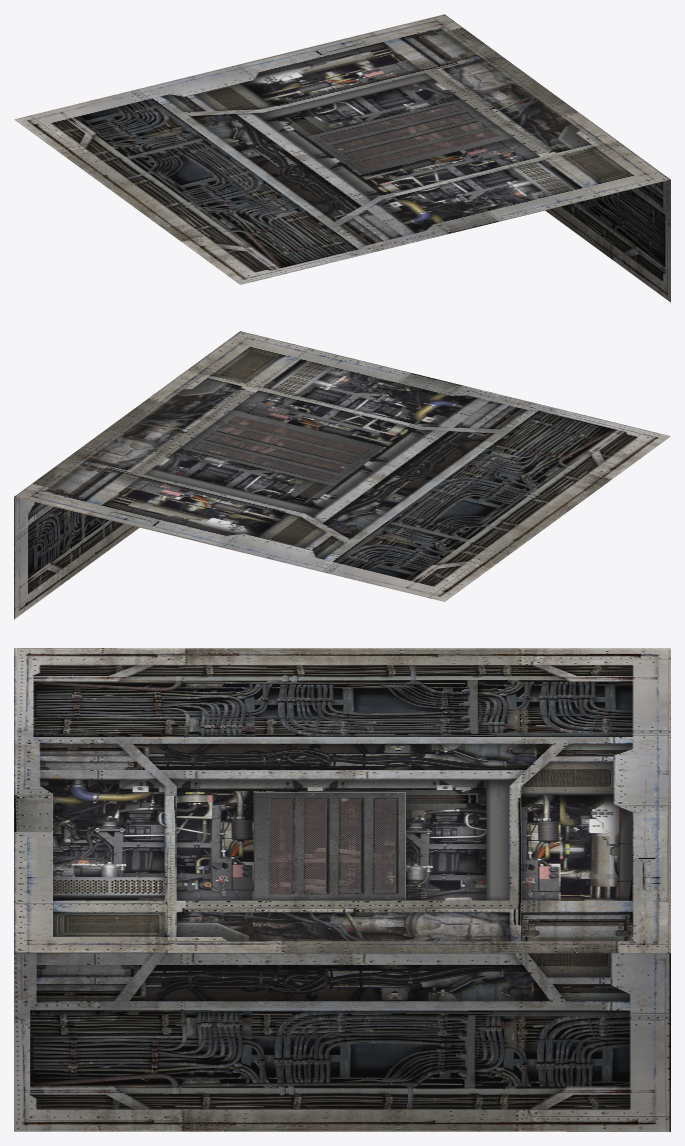
The model's file is ARC_CeilingHigh_Single_SectionOpen.FBX.
The picture shows the model from 3 angles, top to bottom: view 1: azimuth 30°, elevation 25°; view 2: azimuth 150°, elevation 25°; view 3: azimuth 270°, elevation 25°; orthographic projection. The views are drawn at different scales.
Parts seen in each view (by area): view 1: ARC_CeilingHigh_Single_SectionOpen; view 2: ARC_CeilingHigh_Single_SectionOpen; view 3: ARC_CeilingHigh_Single_SectionOpen.
Part boxes in pixels (x1,y1,x2,y2): ARC_CeilingHigh_Single_SectionOpen: (14,14,670,302); ARC_CeilingHigh_Single_SectionOpen: (14,331,670,619); ARC_CeilingHigh_Single_SectionOpen: (14,648,670,1131).
Size of the model in its own units: 550 by 150 by 501.
1 material, 1 textured.
